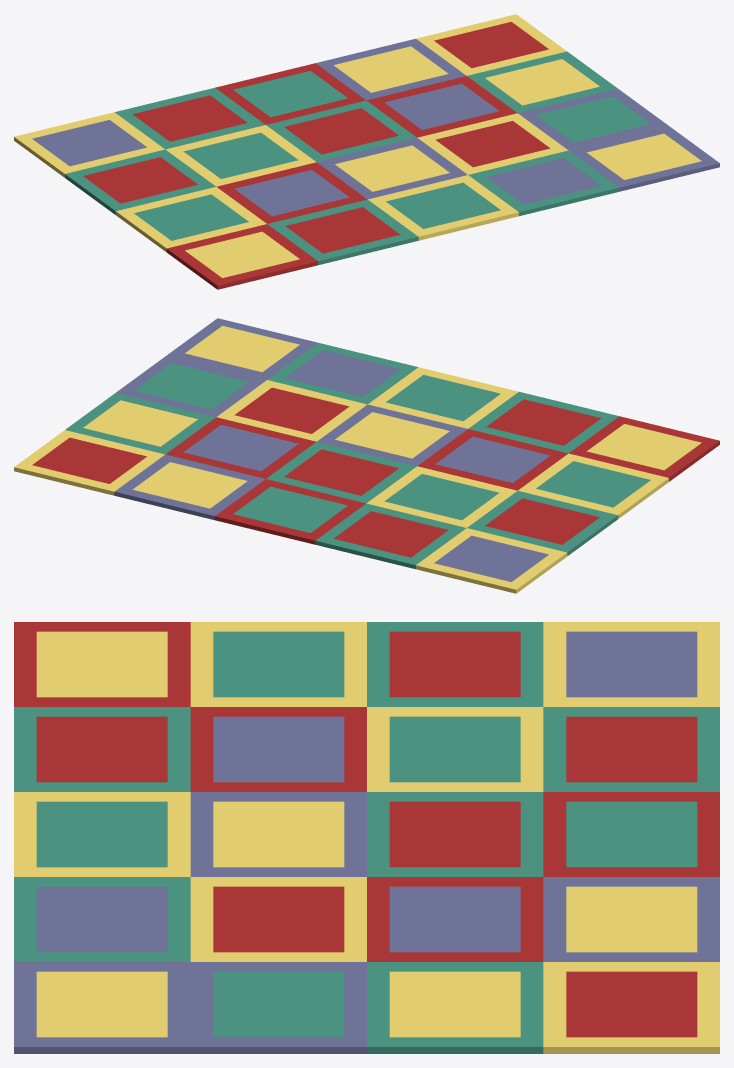
The model's file is Carpet_17.fbx.
The picture shows the model from 3 angles, top to bottom: view 1: azimuth 30°, elevation 25°; view 2: azimuth 150°, elevation 25°; view 3: azimuth 270°, elevation 25°; orthographic projection. The views are drawn at different scales.
Visible parts, largest first — view 1: Carpet_17; view 2: Carpet_17; view 3: Carpet_17.
Boxes of the visible parts, x1,y1,x2,y2 form: Carpet_17: [14, 14, 719, 289]; Carpet_17: [14, 318, 719, 593]; Carpet_17: [14, 622, 719, 1053].
Bounding box in the file's own units: 265 × 186 × 2.04.
